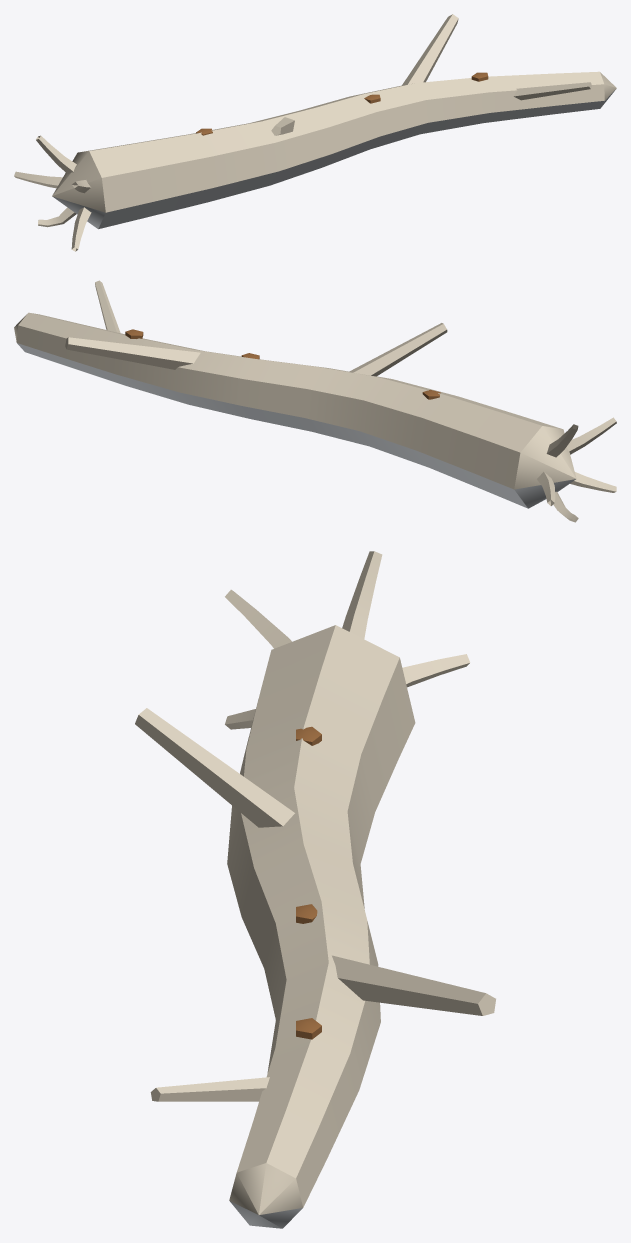
File: MaderaDeriva.fbx
3 views of the same model, one above another, from view 1: azimuth 30°, elevation 25°; view 2: azimuth 150°, elevation 25°; view 3: azimuth 270°, elevation 25° (orthographic). The views are drawn at different scales.
Parts seen in each view (by area): view 1: MaderaDeriva; view 2: MaderaDeriva; view 3: MaderaDeriva.
Part boxes in pixels (x1=…): MaderaDeriva: x1=14, y1=14, x2=616, y2=251; MaderaDeriva: x1=14, y1=280, x2=616, y2=522; MaderaDeriva: x1=135, y1=551, x2=495, y2=1228.
Size of the model in its own units: 9.22 by 1.6 by 2.61.
1 material, 1 textured.
